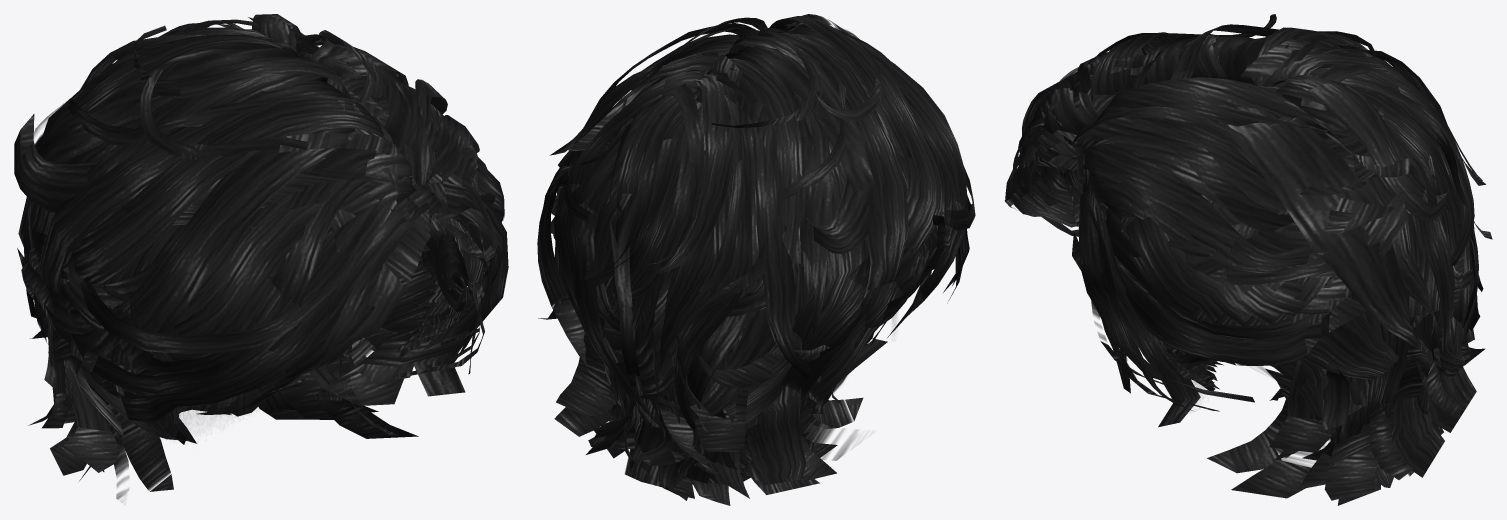
File: oval_wavy_01 LayeredWaves.glb
The picture shows the model from 3 angles, left to right: view 1: azimuth 30°, elevation 25°; view 2: azimuth 150°, elevation 25°; view 3: azimuth 270°, elevation 25°; orthographic projection. The views are drawn at different scales.
Visible parts, largest first — view 1: hair02_hair02_0.001, Scalp.017; view 2: hair02_hair02_0.001; view 3: hair02_hair02_0.001, Scalp.017.
Boxes of the visible parts, <box> form: hair02_hair02_0.001: <box>14,14,508,501</box>; Scalp.017: <box>95,228,465,423</box>; hair02_hair02_0.001: <box>537,14,975,505</box>; hair02_hair02_0.001: <box>1004,14,1492,505</box>; Scalp.017: <box>1054,169,1214,397</box>.
Size of the model in its own units: 0.2472 by 0.2621 by 0.2706.
Materials: 2 (2 with a texture image).
